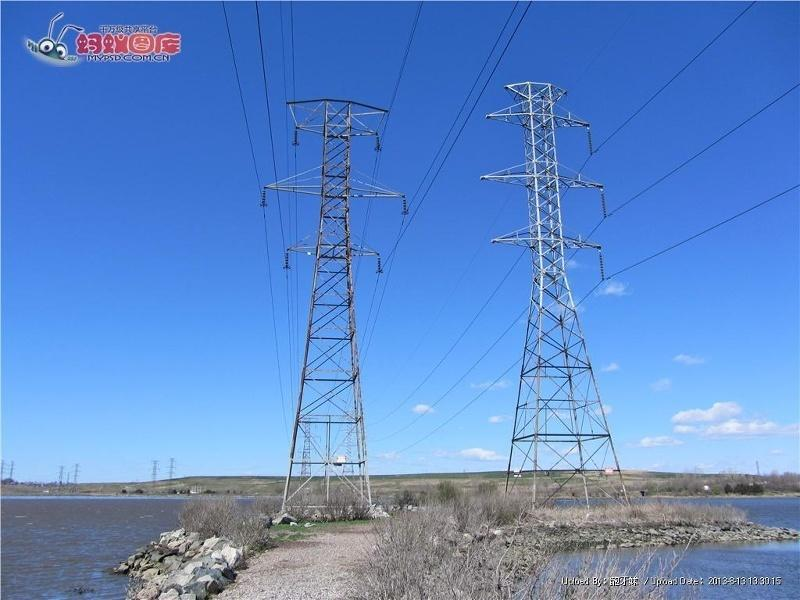power_tower: (476, 79, 638, 520), (259, 92, 410, 517), (290, 417, 325, 476), (336, 410, 364, 476), (164, 456, 178, 479), (147, 458, 161, 480), (70, 462, 82, 482), (7, 460, 15, 477), (58, 464, 66, 480), (0, 461, 7, 479)
